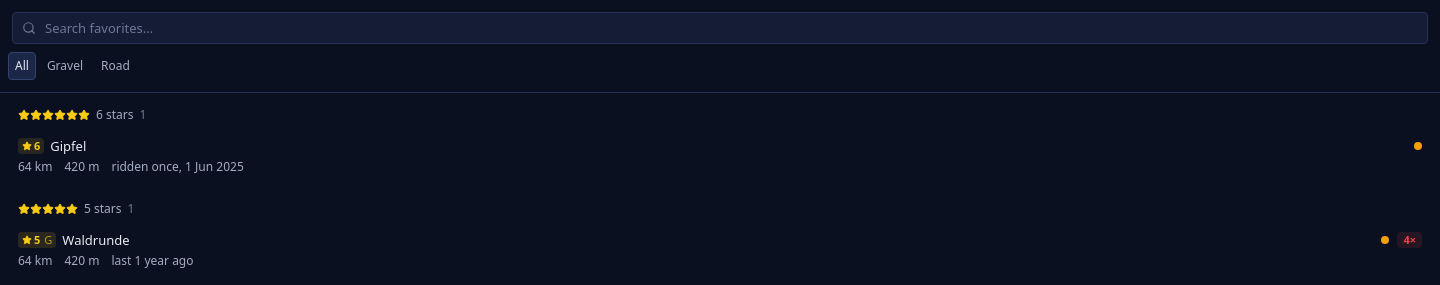
Scenario: FavoritesTab › filters by surface and explains how to add favorites
This screenshot has width=1440, height=285.
Expected: the element "6 stars" is shown, [6,99,1434,185]
Click the button "Road": (115,66) [94,52,137,80]
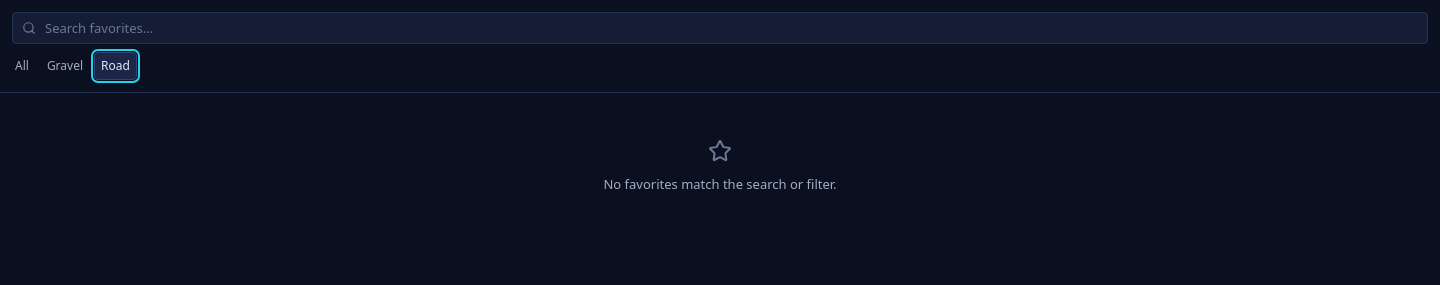
Expected: the text "No favorites match the search or filter." is shown, [603,175,837,193]
